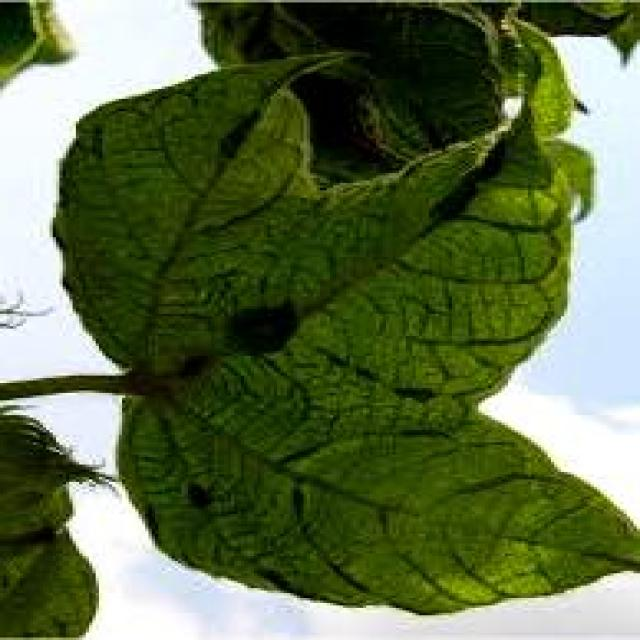Leaf Curl Virus: (107, 123, 500, 487)
